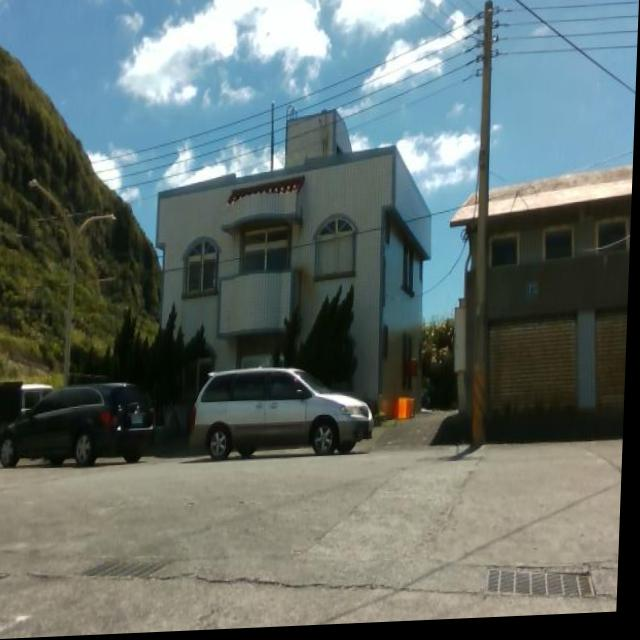pollute: (394, 401, 421, 427)
